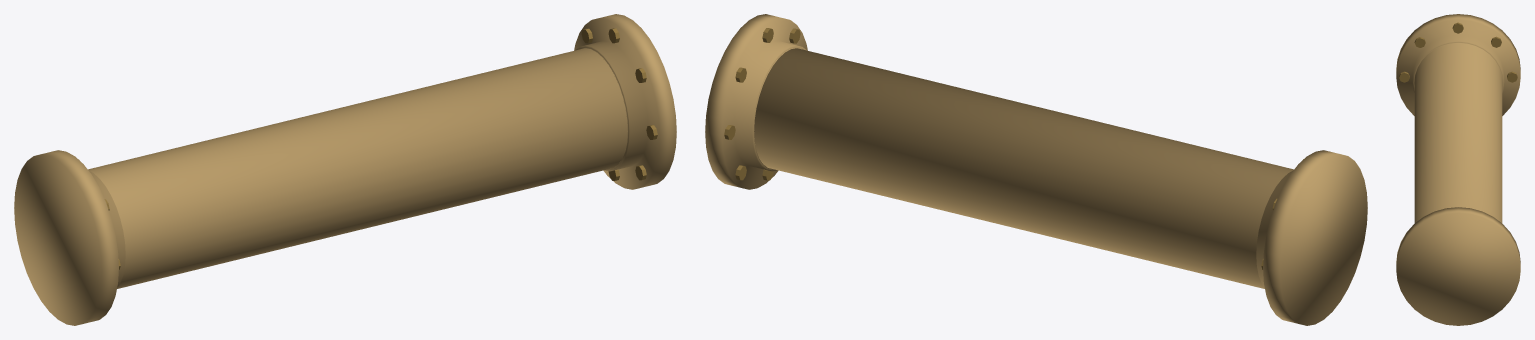
The model's file is Tuyau-Long.fbx.
The picture shows the model from 3 angles, left to right: view 1: azimuth 30°, elevation 25°; view 2: azimuth 150°, elevation 25°; view 3: azimuth 270°, elevation 25°; orthographic projection. The views are drawn at different scales.
Parts seen in each view (by area): view 1: Tuyau-Long; view 2: Tuyau-Long; view 3: Tuyau-Long.
Part boxes in pixels (box(x1,y1,x2,y2)): Tuyau-Long: box(14, 14, 676, 325); Tuyau-Long: box(705, 14, 1367, 325); Tuyau-Long: box(1396, 14, 1520, 325).
Size of the model in its own units: 2156 by 571 by 571.
